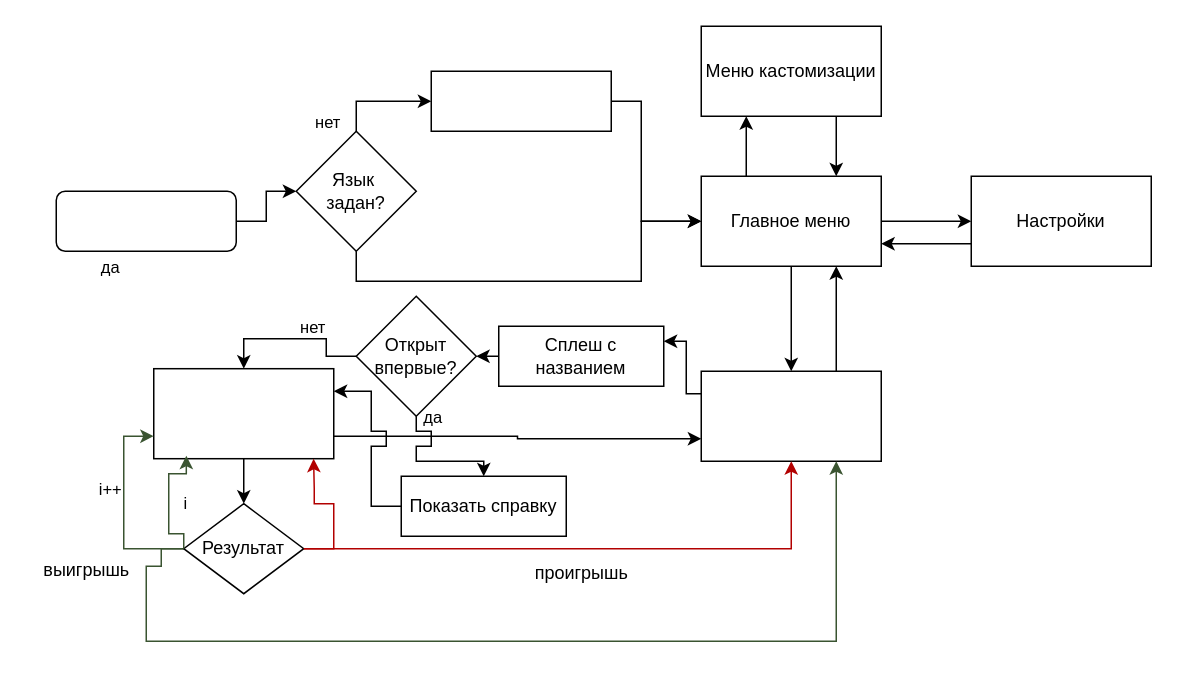
Image size: 1178x680. Some labels were removed from this diagram. The shapes that lost their labels are listed below. From the top down, each one's centre as x and y in pixels, then its label:
At point (520, 100): "Выбрать язык".
At point (145, 220): "Вход в приложение".
At point (243, 413): "Уровень i".
At point (790, 415): "Выбор уровня".
